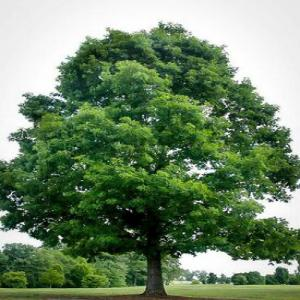Tree: (1, 20, 299, 296)
